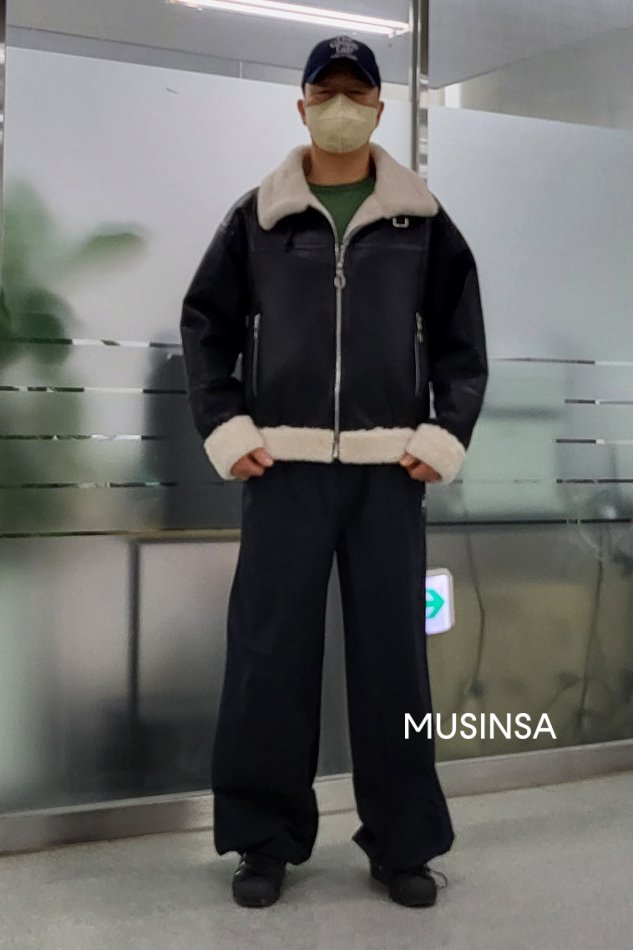Cap: (296, 28, 384, 90)
Jacket: (188, 152, 490, 485)
Mask: (300, 95, 382, 153)
Pants: (213, 462, 470, 868)
Shoes: (229, 845, 477, 922)
